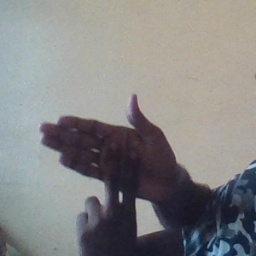N: (33, 92, 169, 231)
